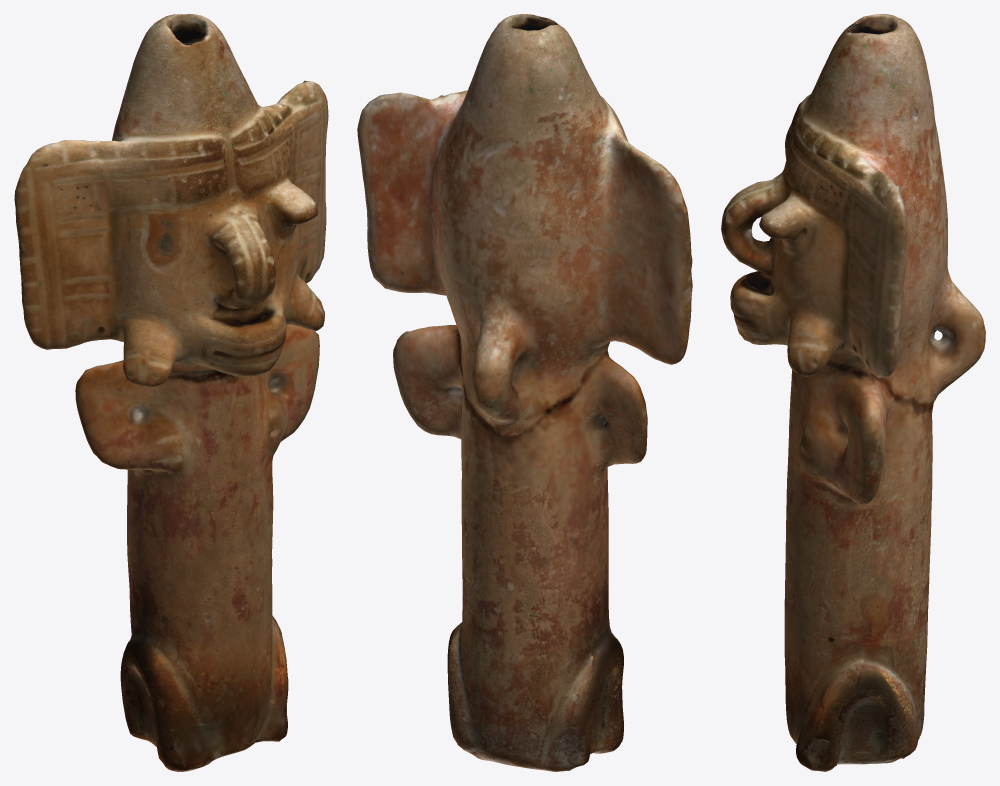
File: bien10.FBX
3 renders of one model, left to right at view 1: azimuth 30°, elevation 25°; view 2: azimuth 150°, elevation 25°; view 3: azimuth 270°, elevation 25°, orthographic. The views are drawn at different scales.
Visible parts, largest first — view 1: default; view 2: default; view 3: default.
Boxes of the visible parts, x1,y1,x2,y2 form: default: [14, 14, 328, 771]; default: [357, 14, 692, 771]; default: [721, 14, 985, 771].
Size of the model in its own units: 23.84 by 51.84 by 17.19.
